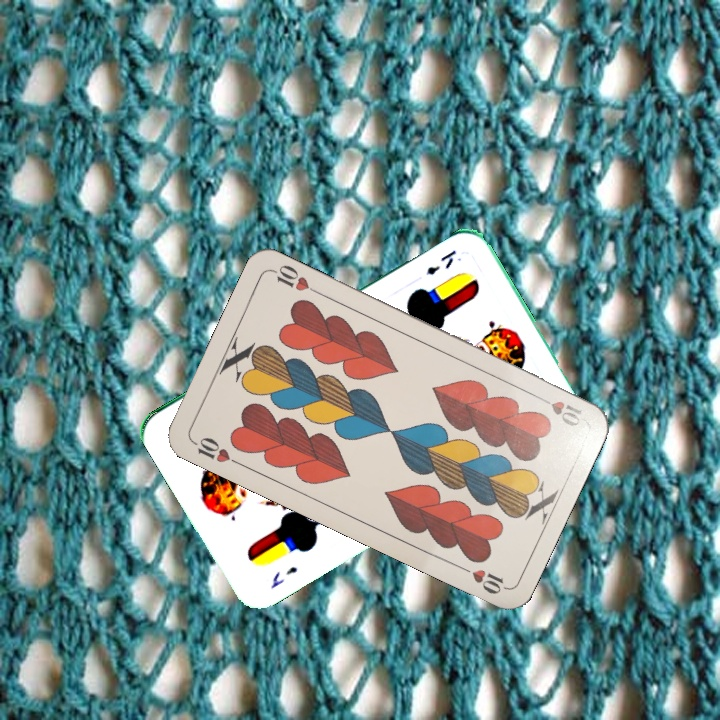EK: (422, 246, 459, 278), (266, 562, 300, 591)
H10: (531, 390, 587, 429), (189, 433, 244, 469)
